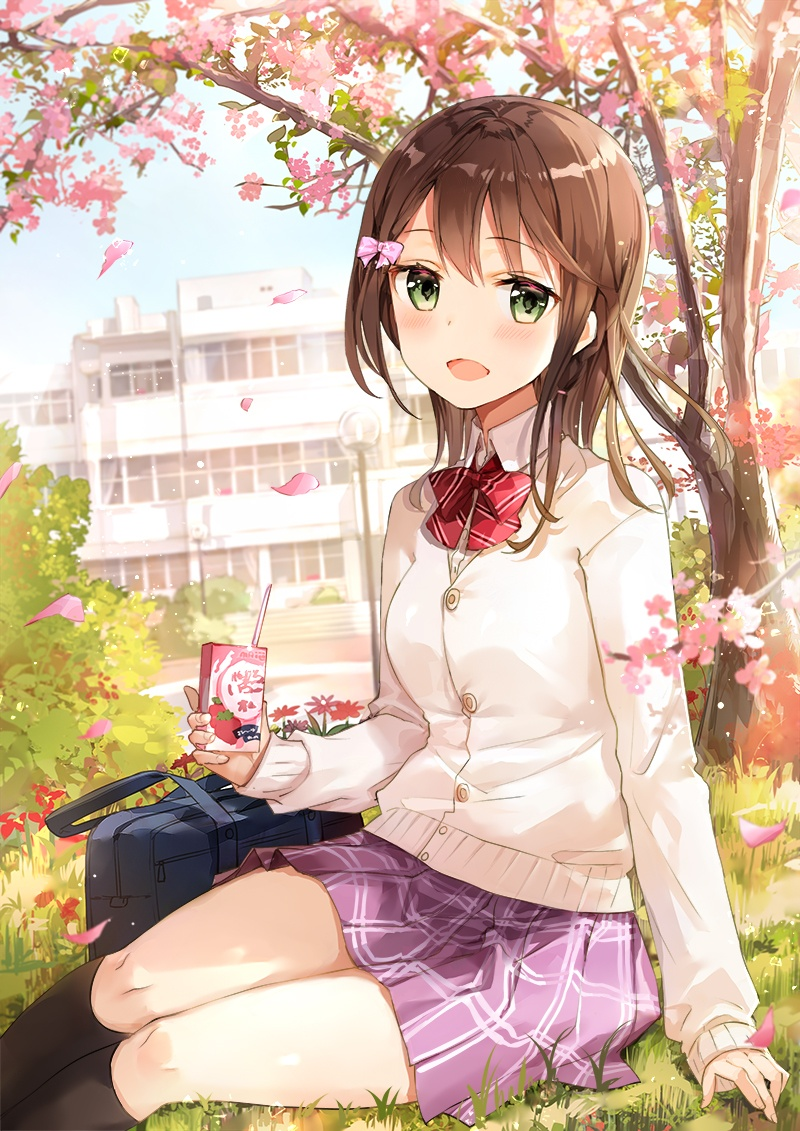纸片人正脸: (341, 84, 655, 417)
